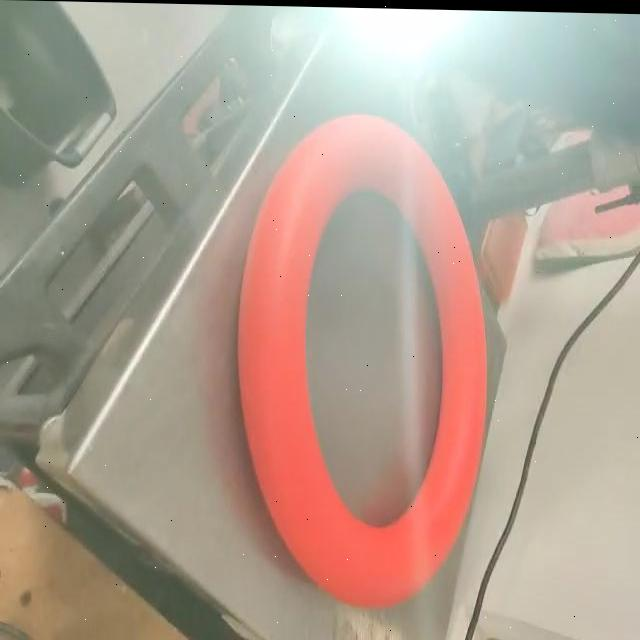note: (234, 100, 498, 615)
